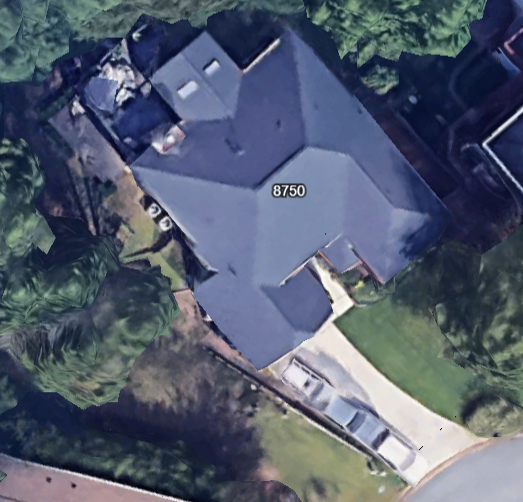driveway: (275, 317, 470, 495)
